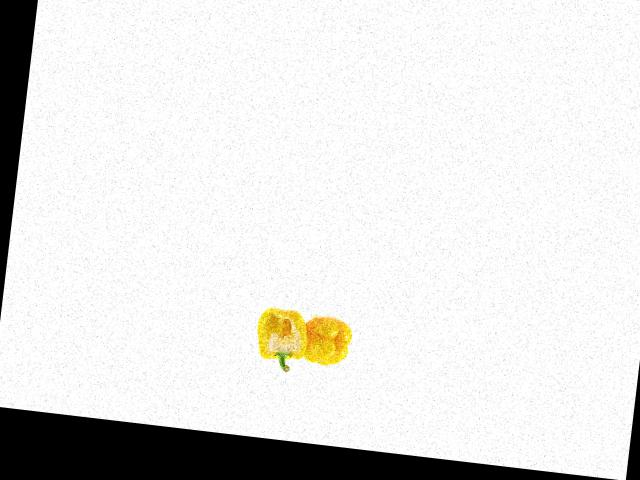bell_pepper: (249, 294, 321, 376)
